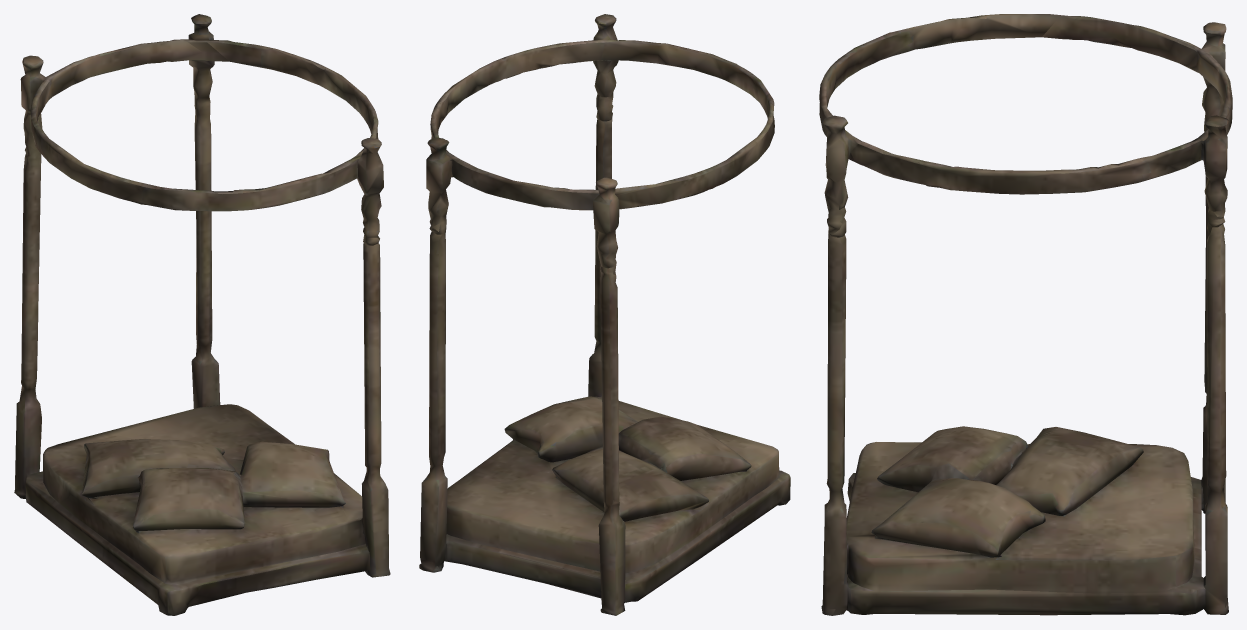
The model's file is worn-wood-four-poster-bed-v002.glb.
3 views of the same model, side by side, from view 1: azimuth 30°, elevation 25°; view 2: azimuth 150°, elevation 25°; view 3: azimuth 270°, elevation 25° (orthographic). The views are drawn at different scales.
Visible parts, largest first — view 1: worn-wood-four-poster-bed; view 2: worn-wood-four-poster-bed; view 3: worn-wood-four-poster-bed.
Part boxes in pixels (left/top/right/bottom): worn-wood-four-poster-bed: left=14, top=14, right=390, bottom=615; worn-wood-four-poster-bed: left=419, top=14, right=790, bottom=615; worn-wood-four-poster-bed: left=819, top=14, right=1232, bottom=615.
Size of the model in its own units: 1.51 by 2.14 by 1.64.
Materials: 1 (1 with a texture image).
